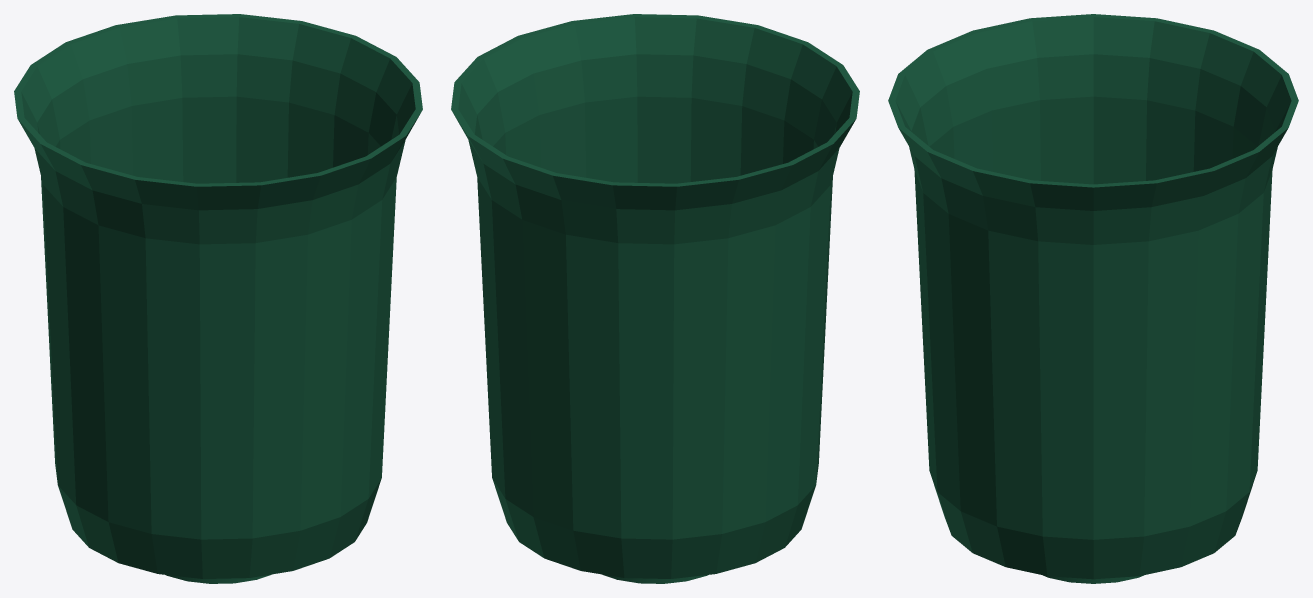
The model's file is TT_Japanese_teacup.fbx.
The picture shows the model from 3 angles, left to right: view 1: azimuth 30°, elevation 25°; view 2: azimuth 150°, elevation 25°; view 3: azimuth 270°, elevation 25°; orthographic projection.
Parts seen in each view (by area): view 1: tea_Cup_japanese; view 2: tea_Cup_japanese; view 3: tea_Cup_japanese.
Boxes of the visible parts, bbox=[...] form: tea_Cup_japanese: bbox=[14, 14, 422, 583]; tea_Cup_japanese: bbox=[451, 14, 859, 583]; tea_Cup_japanese: bbox=[888, 14, 1298, 583].
Size of the model in its own units: 6.29 by 7.61 by 6.28.
